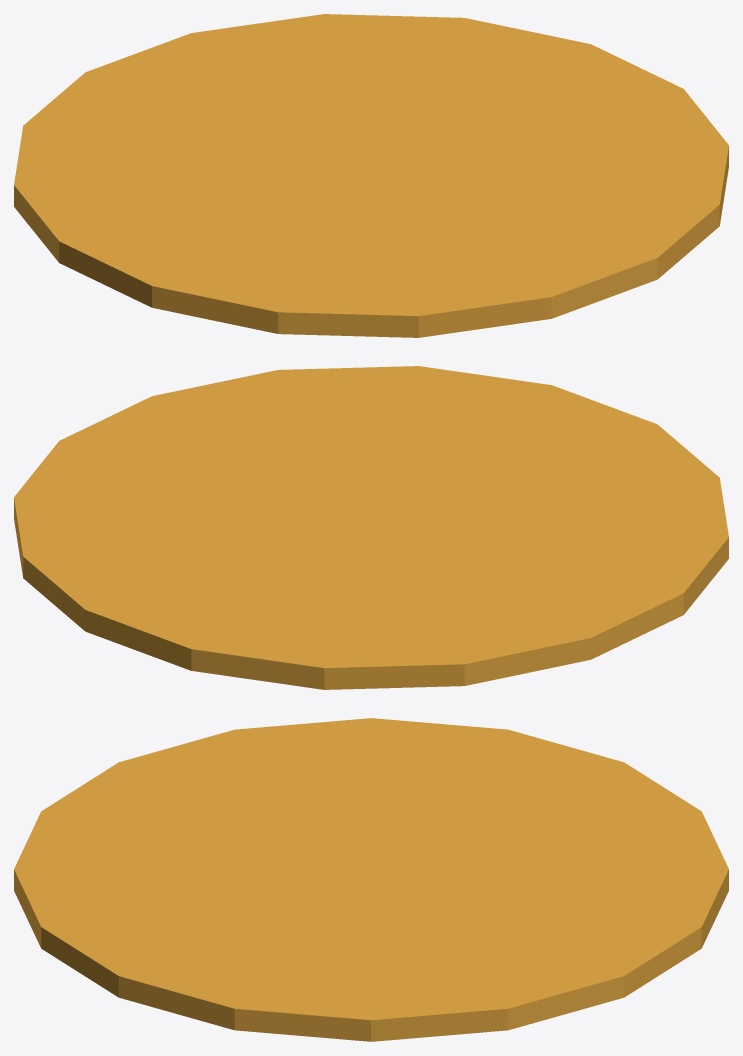
Rendered from 135_L106_DDR_VDD_TestPad.fbx.
3 views of the same model, one above another, from view 1: azimuth 30°, elevation 25°; view 2: azimuth 150°, elevation 25°; view 3: azimuth 270°, elevation 25° (orthographic).
Visible parts, largest first — view 1: 135_L106_DDR_VDD_TestPad_000; view 2: 135_L106_DDR_VDD_TestPad_000; view 3: 135_L106_DDR_VDD_TestPad_000.
Part boxes in pixels (left/top/right/bottom): 135_L106_DDR_VDD_TestPad_000: left=14, top=14, right=728, bottom=337; 135_L106_DDR_VDD_TestPad_000: left=14, top=366, right=728, bottom=689; 135_L106_DDR_VDD_TestPad_000: left=14, top=718, right=728, bottom=1041.
Bounding box in the file's own units: 0.003 × 0.003 × 0.0001.
